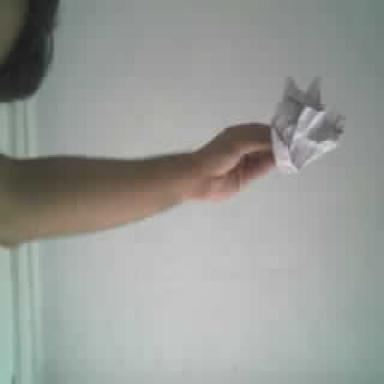paper: (272, 77, 345, 172)
